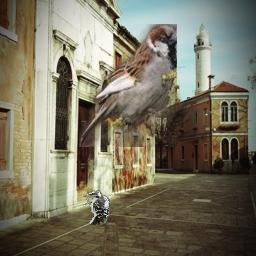Sparrow: (79, 24, 177, 147)
Woodpecker: (83, 190, 110, 225)
